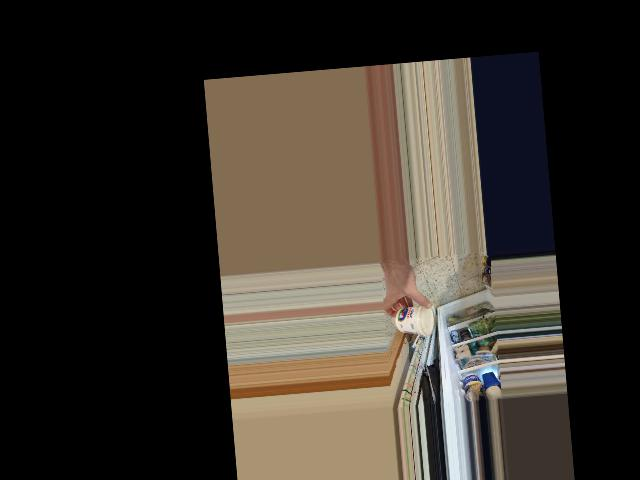cotage: (394, 304, 436, 337)
